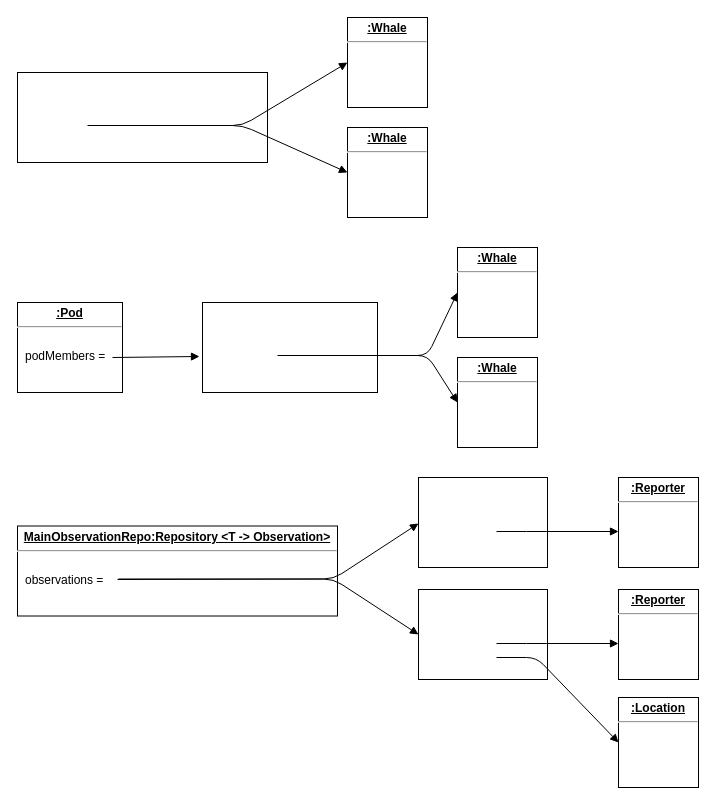
This 716x805 diagram has some shape labels left out. The shapes that lost their labels are listed below. From the top down, each one's centre as x and y in pixels, then its label:
[142,117]: MainWhaleRepo:Repository <T -> Whale> whales =
[290,347]: :Repository <T -> Whale> whales =
[483,522]: :SimpleObservation reporter =
[483,634]: :LocationObservation reporter = location =
